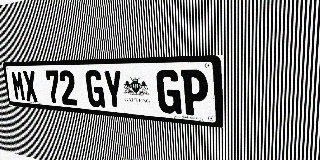2: (58, 70, 77, 106)
7: (44, 70, 62, 104)
G: (156, 70, 182, 115), (85, 70, 105, 108)
M: (11, 71, 26, 101)
P: (181, 69, 208, 117)
X: (22, 71, 39, 102)
Y: (103, 70, 124, 110)
